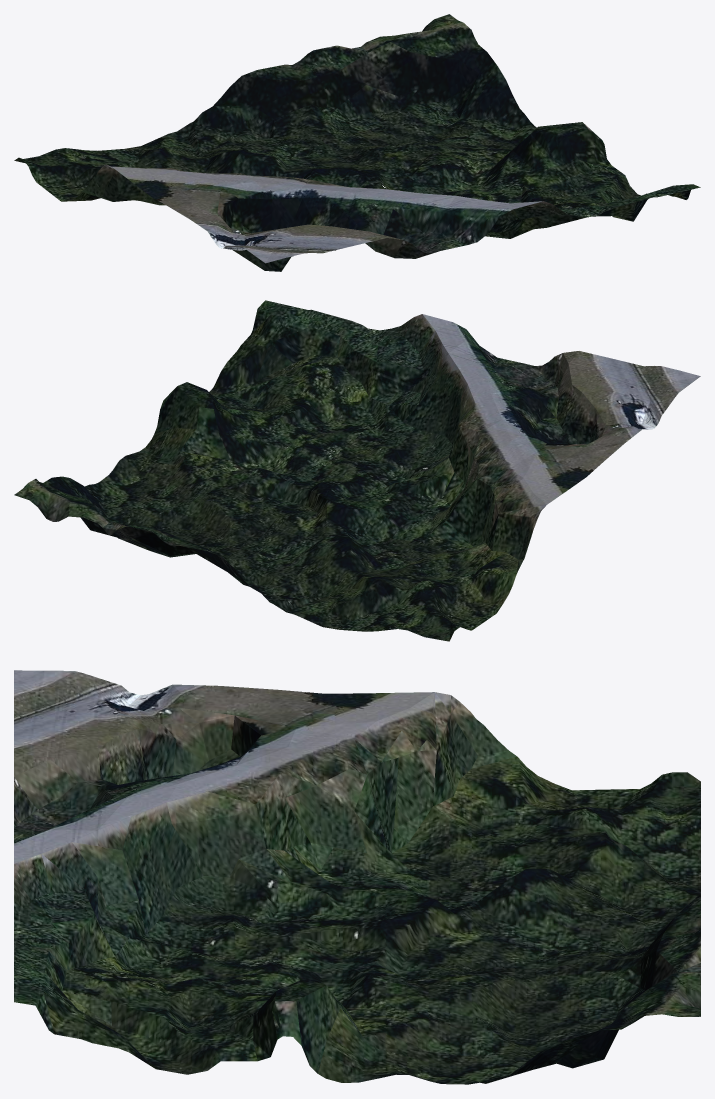
File: map_15_8183_13778.dae
3 views of the same model, one above another, from view 1: azimuth 30°, elevation 25°; view 2: azimuth 150°, elevation 25°; view 3: azimuth 270°, elevation 25° (orthographic). The views are drawn at different scales.
Parts seen in each view (by area): view 1: Ter0; view 2: Ter0; view 3: Ter0.
Part boxes in pixels (x1=…): Ter0: x1=14, y1=14, x2=700, y2=271; Ter0: x1=14, y1=300, x2=700, y2=641; Ter0: x1=14, y1=670, x2=700, y2=1084.
Bounding box in the file's own units: 63.87 × 63.88 × 14.23.
Materials: 3 (3 with a texture image).
